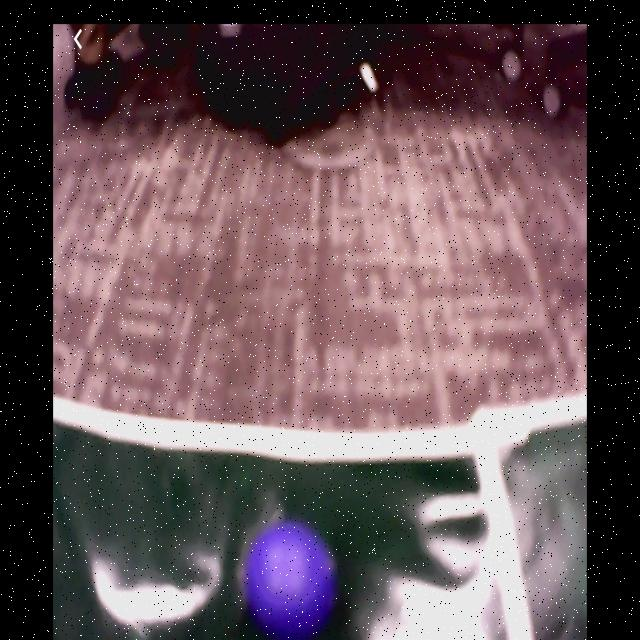ball: (246, 519, 333, 638)
